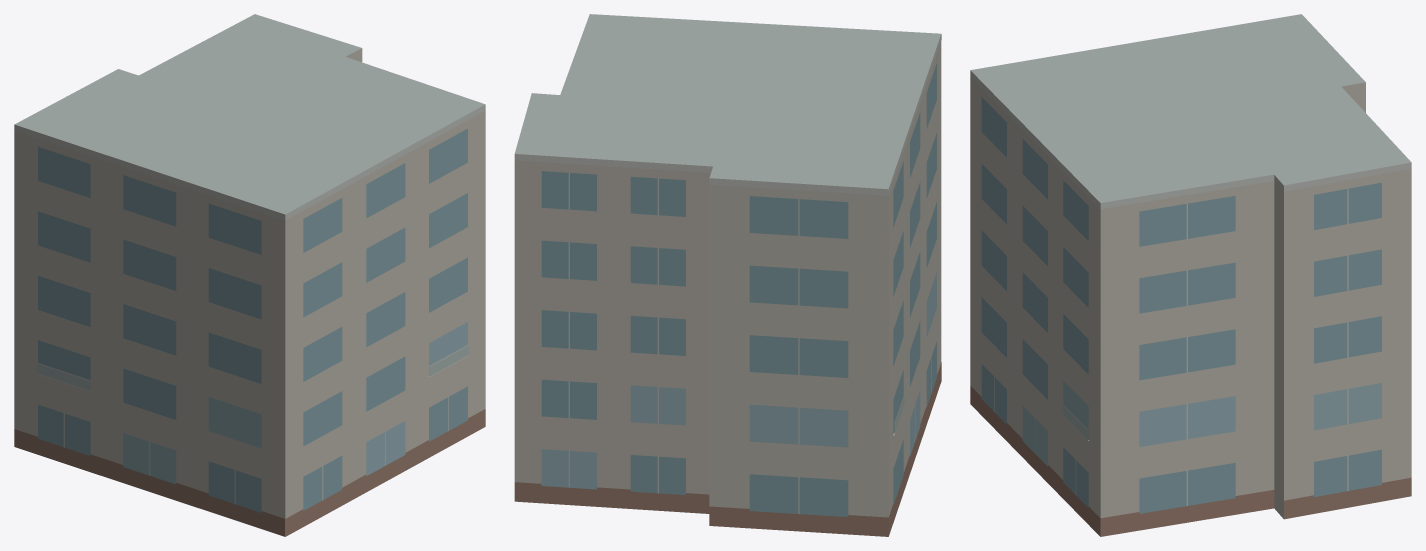
Rendered from survey-upis-33017719.glb.
The picture shows the model from 3 angles, left to right: view 1: azimuth 30°, elevation 25°; view 2: azimuth 150°, elevation 25°; view 3: azimuth 270°, elevation 25°; orthographic projection. The views are drawn at different scales.
Parts seen in each view (by area): view 1: survey-upis-33017719.tmp; view 2: survey-upis-33017719.tmp; view 3: survey-upis-33017719.tmp.
Part boxes in pixels (left/top/right/bottom): survey-upis-33017719.tmp: left=14, top=14, right=485, bottom=536; survey-upis-33017719.tmp: left=514, top=14, right=941, bottom=536; survey-upis-33017719.tmp: left=970, top=14, right=1411, bottom=536.
Bounding box in the file's own units: 15.93 × 13.1 × 15.71.
